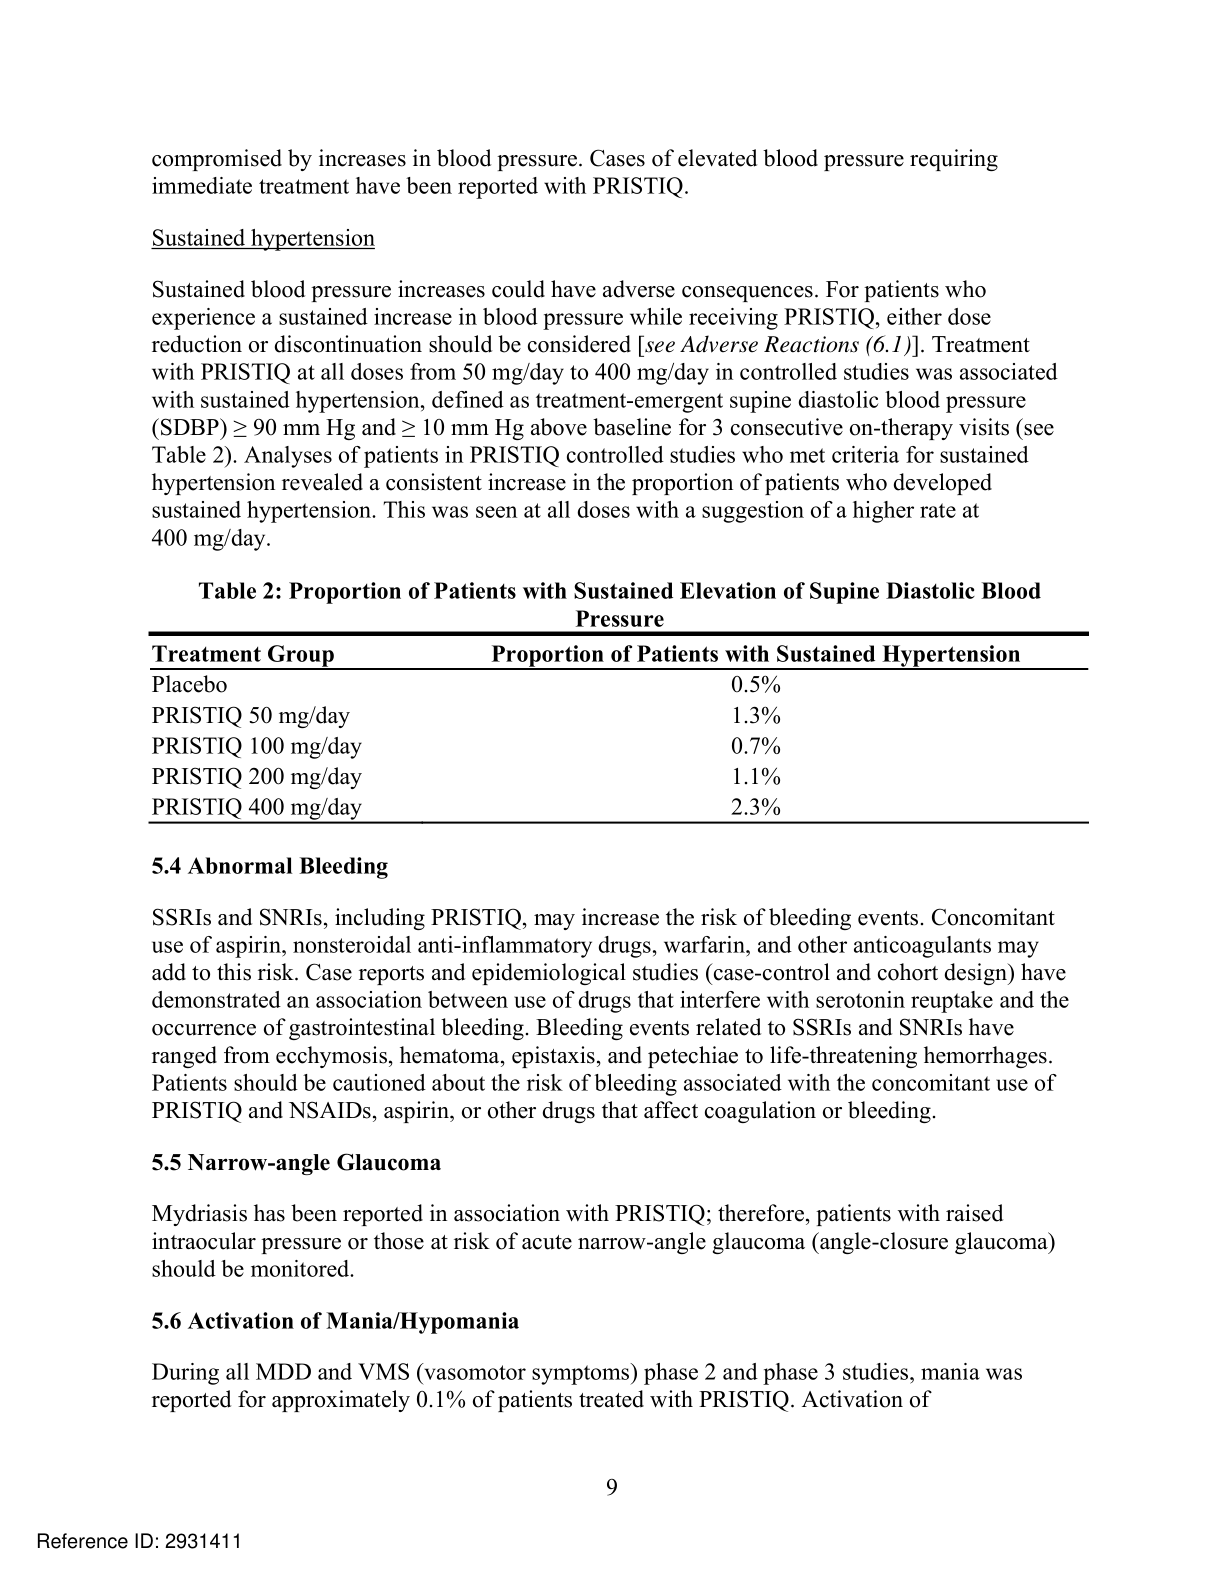partial_lined: (147, 629, 1092, 823)
